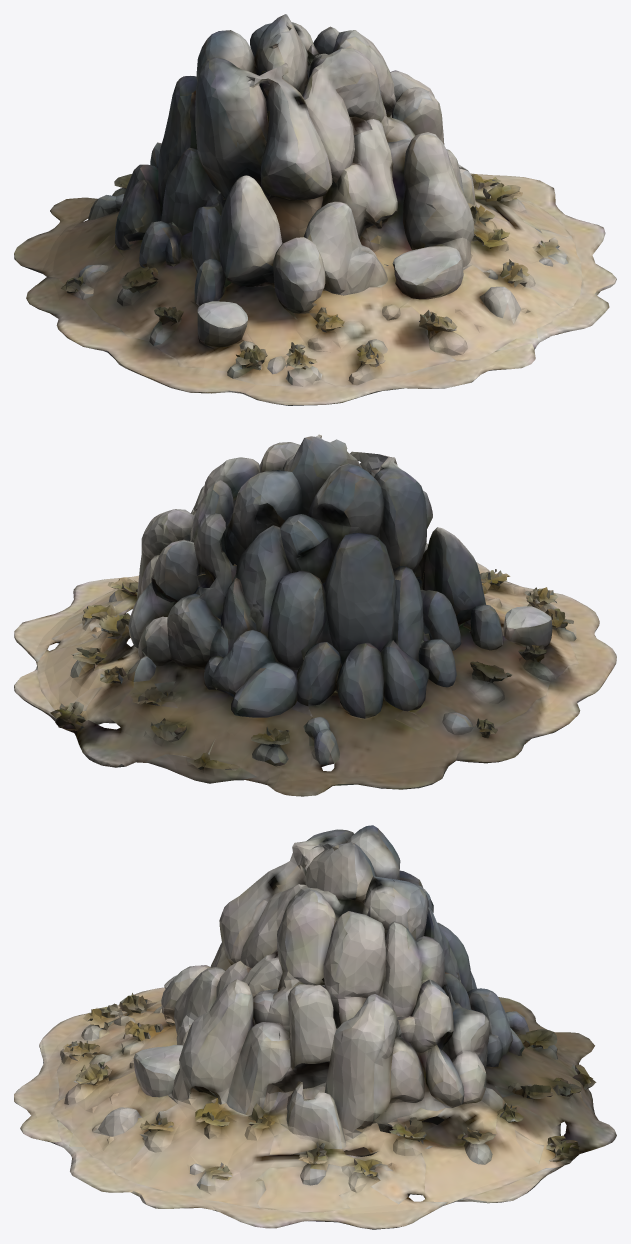
Rendered from prop_mtn.glb.
3 views of the same model, one above another, from view 1: azimuth 30°, elevation 25°; view 2: azimuth 150°, elevation 25°; view 3: azimuth 270°, elevation 25° (orthographic).
Visible parts, largest first — view 1: world; view 2: world; view 3: world.
Part boxes in pixels (left/top/right/bottom): world: left=14, top=14, right=616, bottom=405; world: left=14, top=434, right=616, bottom=796; world: left=14, top=825, right=616, bottom=1229.
Size of the model in its own units: 0.9942 by 0.4811 by 0.9975.
Materials: 1 (1 with a texture image).
